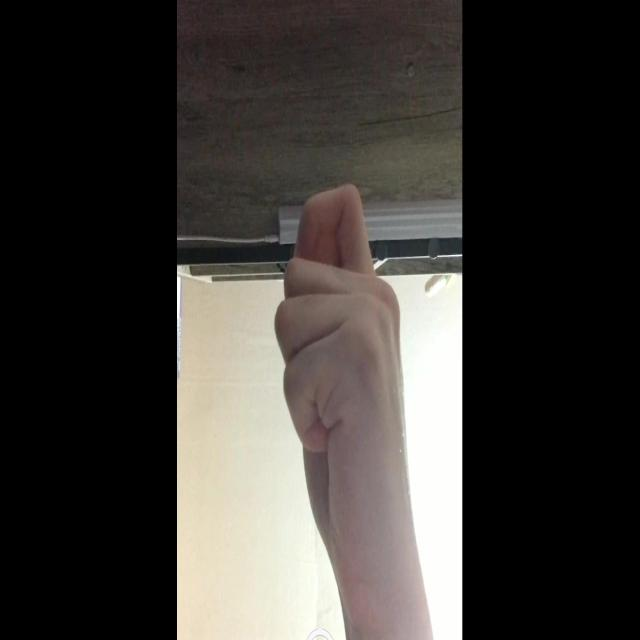T: (275, 186, 409, 556)
